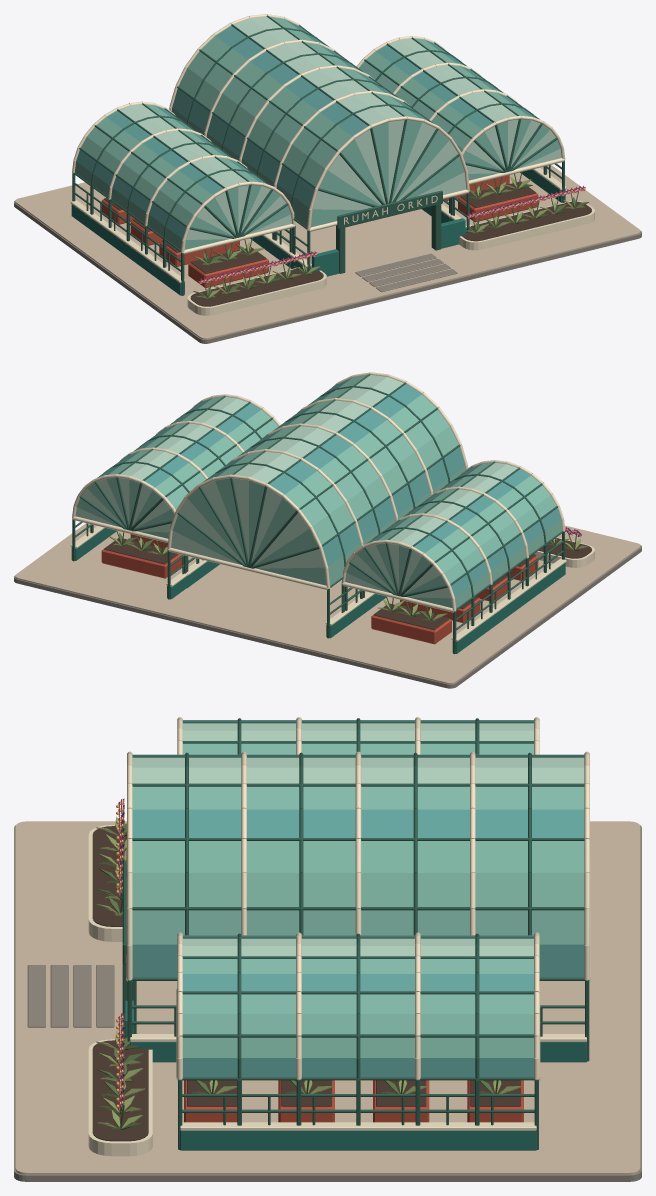
3 renders of one model, top to bottom at view 1: azimuth 30°, elevation 25°; view 2: azimuth 150°, elevation 25°; view 3: azimuth 270°, elevation 25°, orthographic. The views are drawn at different scales.
Parts seen in each view (by area): view 1: Jade Shade Vaults, Palm Court, Fanlight Entry, Ribbed Ironwork, Specimen Benches; view 2: Jade Shade Vaults, Palm Court, Ribbed Ironwork, Fanlight Entry, Specimen Benches; view 3: Jade Shade Vaults, Palm Court, Ribbed Ironwork, Specimen Benches, Fanlight Entry.
Part boxes in pixels (box(x1,y1,x2,y2)): Jade Shade Vaults: box(75, 16, 535, 249); Palm Court: box(14, 165, 641, 343); Fanlight Entry: box(183, 119, 564, 276); Ribbed Ironwork: box(70, 14, 566, 295); Specimen Benches: box(101, 172, 589, 298); Jade Shade Vaults: box(101, 375, 562, 608); Palm Court: box(14, 523, 641, 688); Ribbed Ironwork: box(70, 372, 566, 654); Fanlight Entry: box(72, 477, 453, 612); Specimen Benches: box(101, 527, 588, 644); Jade Shade Vaults: box(132, 720, 584, 1077); Palm Court: box(14, 821, 641, 1181); Ribbed Ironwork: box(127, 717, 589, 1150); Specimen Benches: box(96, 798, 523, 1130); Fanlight Entry: box(122, 850, 590, 1080).
Size of the model in its own units: 27.4 by 8.71 by 20.6.
